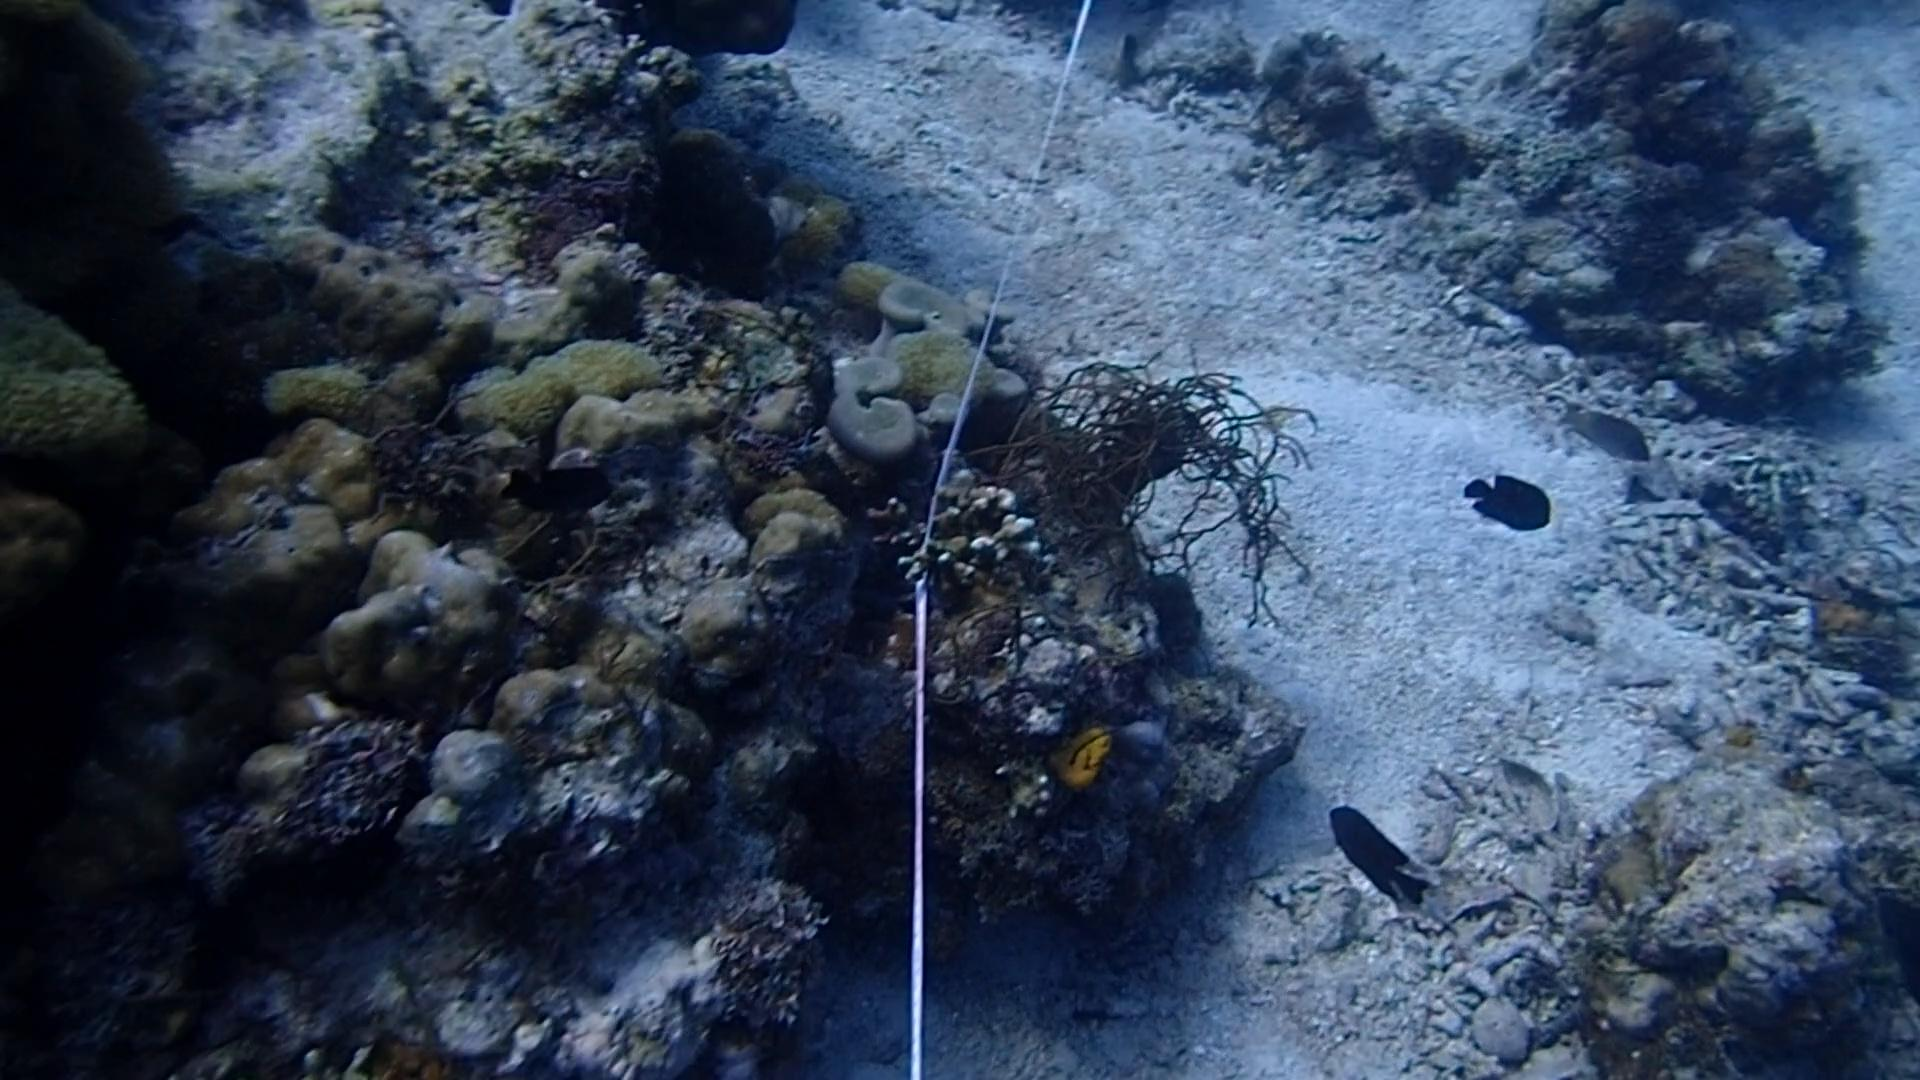Dark Fish: (1305, 796, 1427, 914), (1464, 460, 1559, 541)
Light Fish: (1551, 397, 1658, 471)
